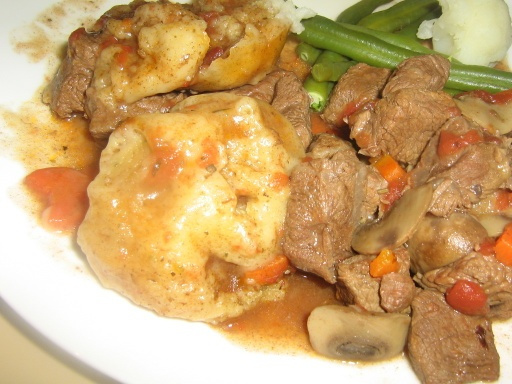background: (34, 0, 409, 230)
